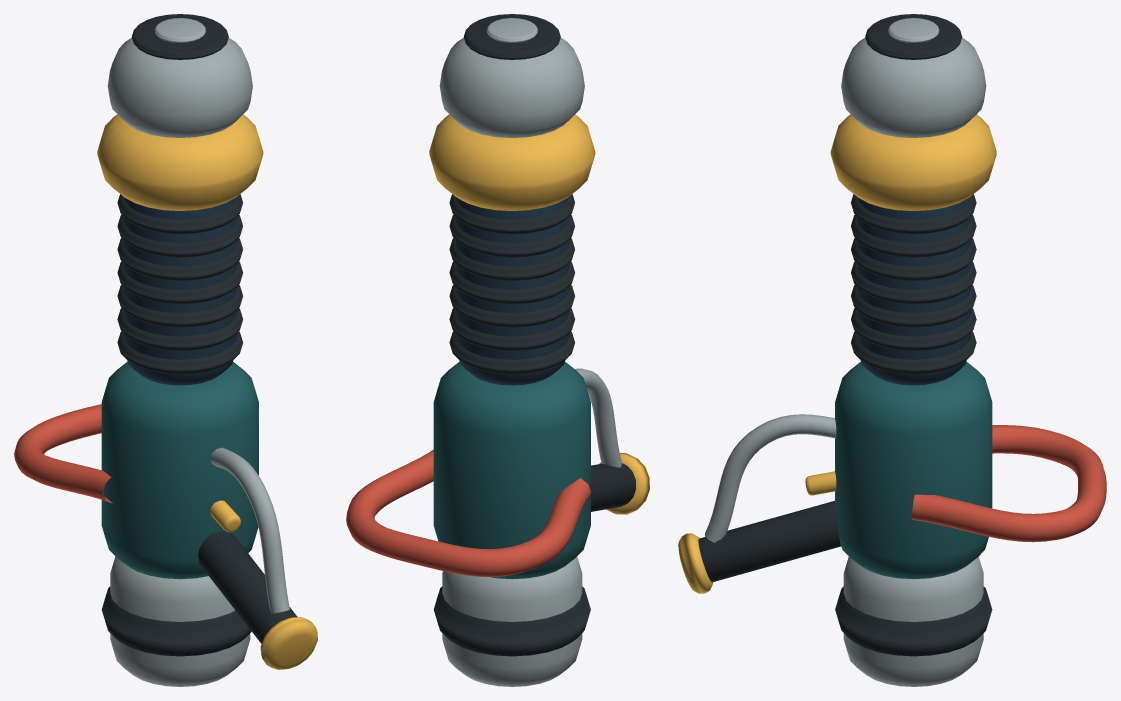
File: HoseNozzle.fbx
3 renders of one model, left to right at view 1: azimuth 30°, elevation 25°; view 2: azimuth 150°, elevation 25°; view 3: azimuth 270°, elevation 25°, orthographic.
Parts seen in each view (by area): view 1: ValveBody, AdjustableGoldCollar, MuzzleShell, RearCoupling, ForwardBarrel, ValveBail, CouplingRubber, RearHandGrip, TriggerGuard, DarkBore, GripEnd, ForwardGripRib.002 (+8 smaller); view 2: ValveBody, AdjustableGoldCollar, MuzzleShell, ValveBail, RearCoupling, ForwardBarrel, CouplingRubber, DarkBore, TriggerGuard, ForwardGripRib.002, ForwardGripRib.005, ForwardGripRib (+7 smaller); view 3: ValveBody, AdjustableGoldCollar, MuzzleShell, RearCoupling, ValveBail, ForwardBarrel, RearHandGrip, CouplingRubber, TriggerGuard, DarkBore, ForwardGripRib.002, ForwardGripRib.005 (+7 smaller).
Part boxes in pixels (left/top/right/bottom): ValveBody: left=101, top=361, right=258, bottom=579; AdjustableGoldCollar: left=97, top=114, right=263, bottom=210; MuzzleShell: left=107, top=37, right=252, bottom=137; RearCoupling: left=110, top=557, right=250, bottom=686; ForwardBarrel: left=123, top=196, right=237, bottom=385; ValveBail: left=14, top=404, right=112, bottom=503; CouplingRubber: left=101, top=586, right=251, bottom=656; RearHandGrip: left=198, top=531, right=297, bottom=643; TriggerGuard: left=210, top=447, right=289, bottom=613; DarkBore: left=132, top=14, right=228, bottom=59; GripEnd: left=260, top=617, right=317, bottom=669; ForwardGripRib.002: left=117, top=284, right=242, bottom=327; ValveBody: left=433, top=361, right=590, bottom=579; AdjustableGoldCollar: left=429, top=114, right=595, bottom=210; MuzzleShell: left=439, top=37, right=584, bottom=137; ValveBail: left=346, top=450, right=590, bottom=576; RearCoupling: left=442, top=556, right=582, bottom=686; ForwardBarrel: left=455, top=196, right=569, bottom=385; CouplingRubber: left=433, top=586, right=590, bottom=656; DarkBore: left=464, top=14, right=560, bottom=59; TriggerGuard: left=575, top=368, right=621, bottom=467; ForwardGripRib.002: left=449, top=284, right=574, bottom=327; ForwardGripRib.005: left=449, top=214, right=574, bottom=257; ForwardGripRib: left=449, top=331, right=574, bottom=374; ValveBody: left=835, top=361, right=992, bottom=579; AdjustableGoldCollar: left=830, top=114, right=996, bottom=210; MuzzleShell: left=841, top=37, right=986, bottom=137; RearCoupling: left=843, top=556, right=983, bottom=686; ValveBail: left=911, top=425, right=1106, bottom=542; ForwardBarrel: left=856, top=197, right=970, bottom=385; RearHandGrip: left=698, top=501, right=840, bottom=582; CouplingRubber: left=835, top=586, right=992, bottom=656; TriggerGuard: left=705, top=414, right=836, bottom=542; DarkBore: left=865, top=14, right=962, bottom=59; ForwardGripRib.002: left=851, top=284, right=976, bottom=327; ForwardGripRib.005: left=851, top=214, right=976, bottom=257.
Size of the model in its own units: 16.48 by 49.4 by 29.97.
